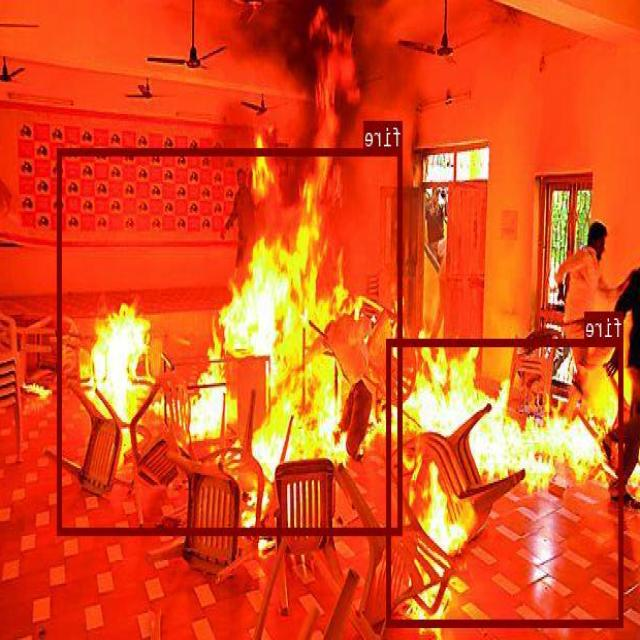fire: (59, 146, 404, 534), (388, 337, 624, 626)
